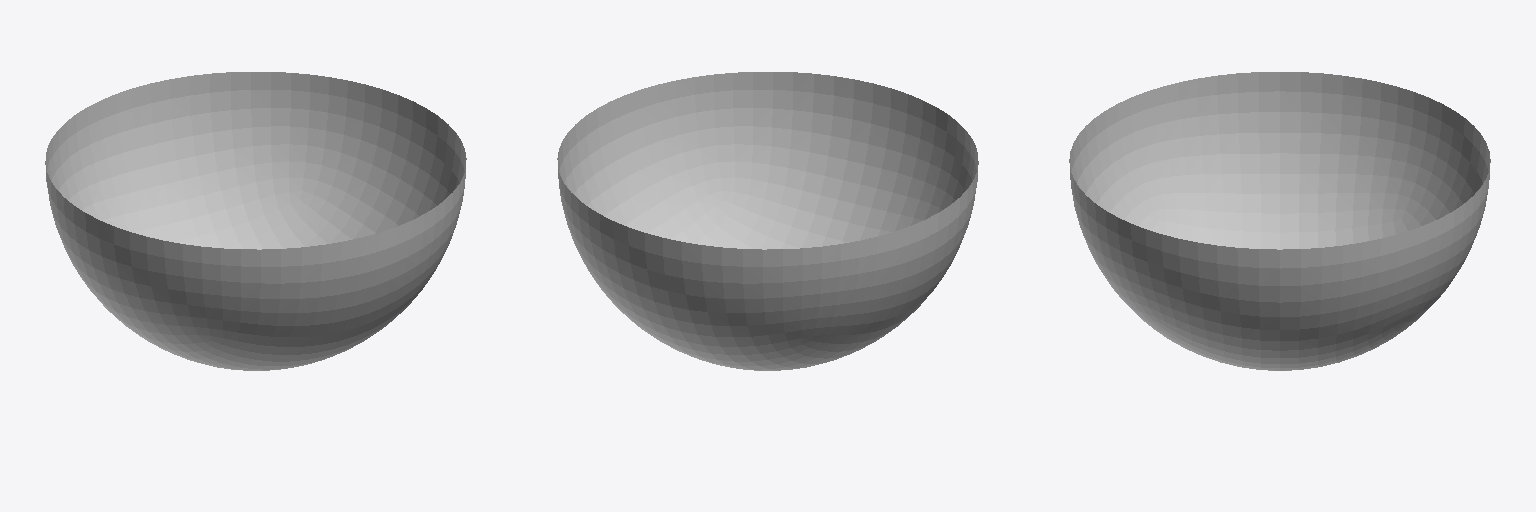
Rendered from world_bottom.obj.
3 views of the same model, side by side, from view 1: azimuth 30°, elevation 25°; view 2: azimuth 150°, elevation 25°; view 3: azimuth 270°, elevation 25° (orthographic).
Visible parts, largest first — view 1: Plane; view 2: Plane; view 3: Plane.
Boxes of the visible parts, x1,y1,x2,y2 form: Plane: [45, 72, 466, 370]; Plane: [557, 72, 978, 370]; Plane: [1069, 72, 1490, 370].
Size of the model in its own units: 1.71 by 0.8563 by 1.71.